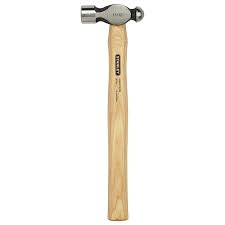hammer: (80, 3, 145, 222)
